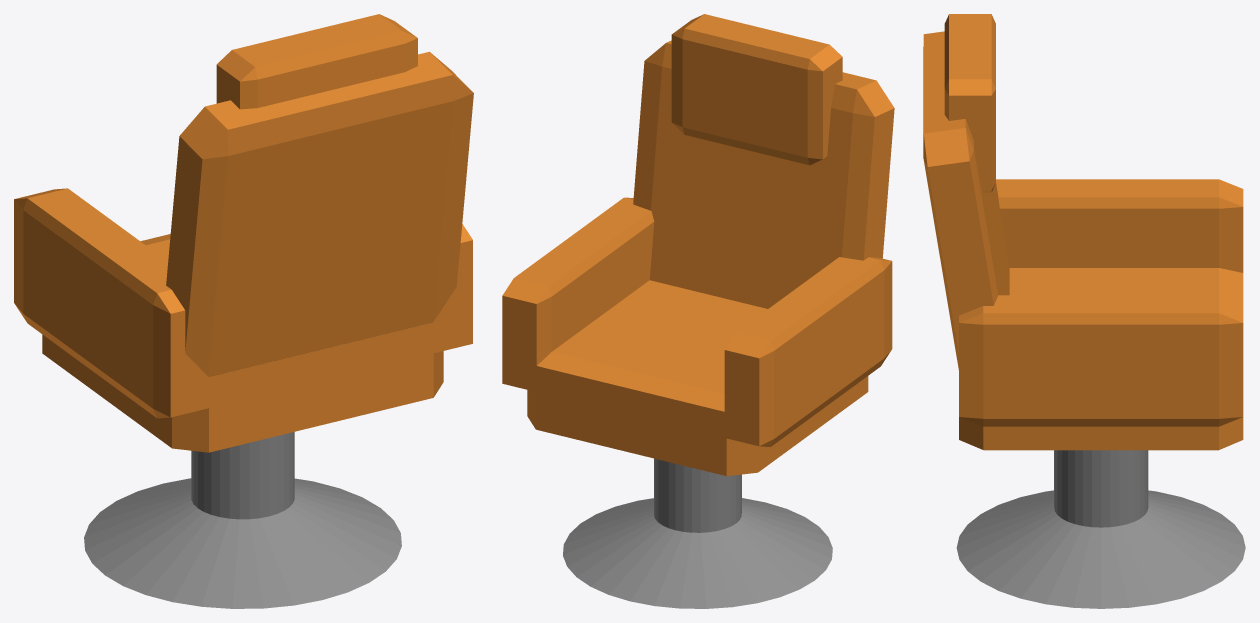
Rendered from chair.dae.
3 views of the same model, side by side, from view 1: azimuth 30°, elevation 25°; view 2: azimuth 150°, elevation 25°; view 3: azimuth 270°, elevation 25° (orthographic). The views are drawn at different scales.
Visible parts, largest first — view 1: Cube.003, Cylinder, Cube.002, Cube, Cube.004, Cube.001; view 2: Cube.003, Cube, Cylinder, Cube.002, Cube.004, Cube.001; view 3: Cube.001, Cylinder, Cube.002, Cube.003, Cube, Cube.004.
Part boxes in pixels (left/top/right/bottom): Cube.003: left=166, top=51, right=473, bottom=376; Cylinder: left=84, top=432, right=401, bottom=608; Cube.002: left=14, top=188, right=211, bottom=418; Cube: left=42, top=234, right=443, bottom=452; Cube.004: left=216, top=14, right=417, bottom=109; Cube.001: left=432, top=224, right=472, bottom=353; Cube.003: left=633, top=40, right=894, bottom=308; Cube: left=527, top=280, right=868, bottom=476; Cylinder: left=563, top=458, right=832, bottom=608; Cube.002: left=724, top=257, right=892, bottom=446; Cube.004: left=671, top=14, right=842, bottom=165; Cube.001: left=502, top=197, right=654, bottom=391; Cube.001: left=959, top=295, right=1243, bottom=426; Cylinder: left=956, top=450, right=1245, bottom=608; Cube.002: left=996, top=179, right=1243, bottom=272; Cube.003: left=923, top=31, right=1009, bottom=369; Cube: left=959, top=268, right=1243, bottom=450; Cube.004: left=944, top=14, right=995, bottom=192.
Bounding box in the file's own units: 1.69 × 1.67 × 2.88.
